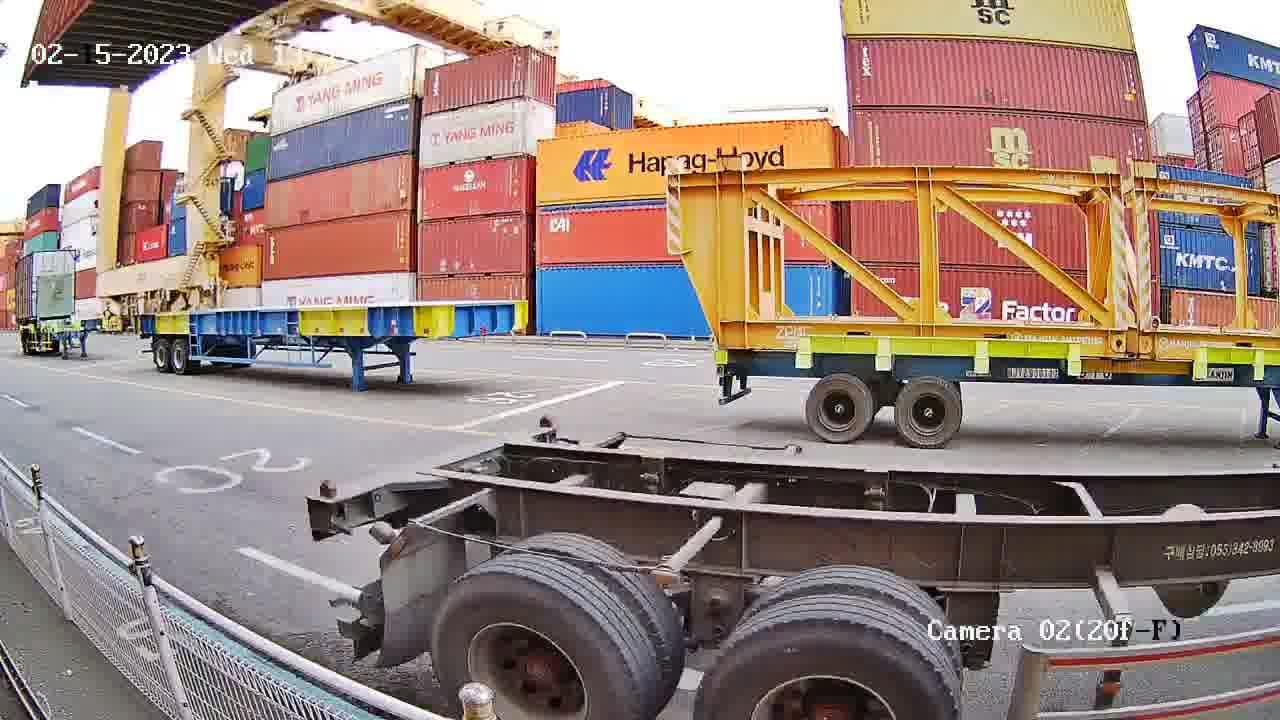Chassis: (310, 419, 562, 508)
Cone: (310, 477, 350, 539), (533, 410, 558, 444)
Tire: (432, 571, 641, 714), (689, 620, 959, 713)
